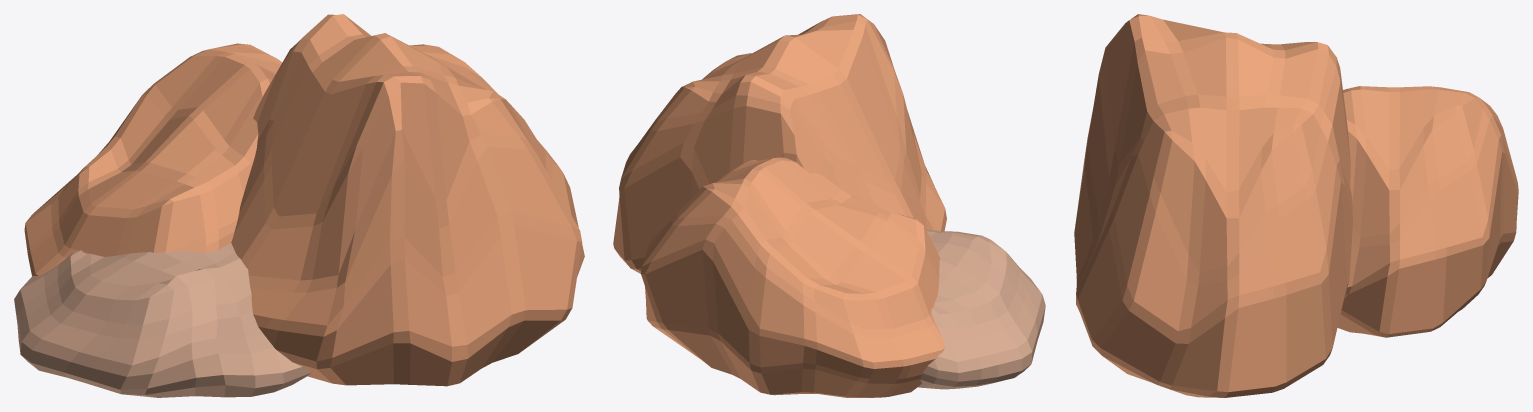
Rendered from rock_8_garden.fbx.
3 renders of one model, left to right at view 1: azimuth 30°, elevation 25°; view 2: azimuth 150°, elevation 25°; view 3: azimuth 270°, elevation 25°, orthographic. The views are drawn at different scales.
Visible parts, largest first — view 1: rock_8_garden, Cube.004; view 2: rock_8_garden, Cube.004; view 3: rock_8_garden.
Part boxes in pixels (x1,y1,x2,y2): rock_8_garden: (24, 14, 584, 386); Cube.004: (14, 243, 311, 397); rock_8_garden: (613, 14, 946, 397); Cube.004: (918, 229, 1045, 389); rock_8_garden: (1074, 14, 1518, 397).
Bounding box in the file's own units: 96.57 × 55.42 × 72.67.
